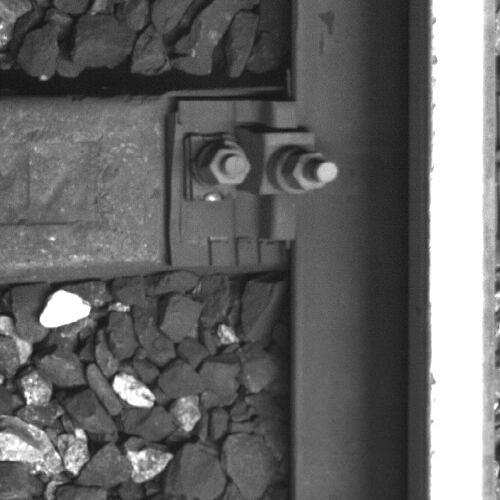kb: (178, 100, 337, 242)
nut: (281, 148, 338, 194), (197, 144, 252, 187)
rail: (428, 1, 495, 500)
tie_concr: (1, 95, 288, 265)
